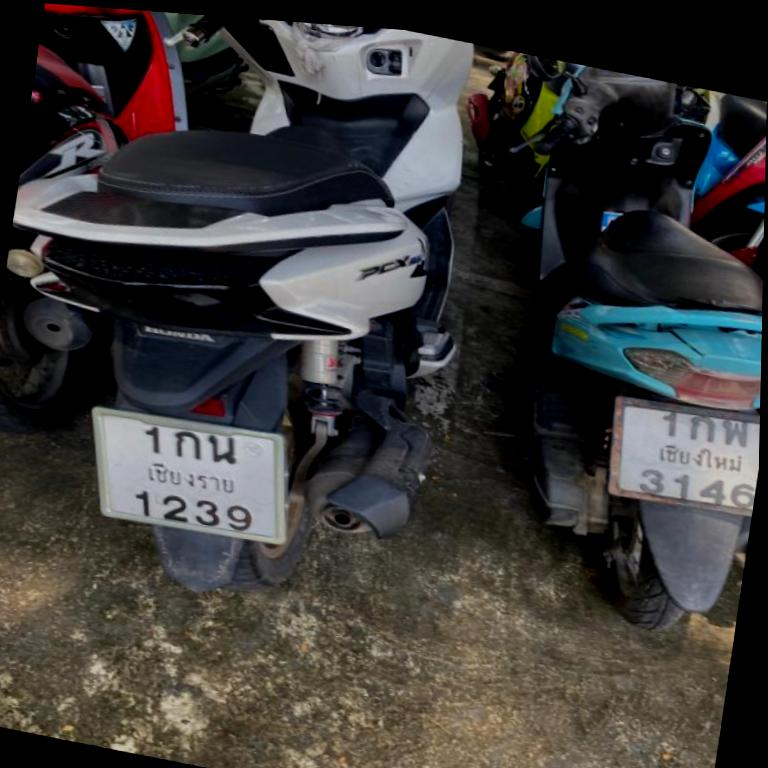license plate: (92, 407, 286, 544), (610, 396, 760, 514)
